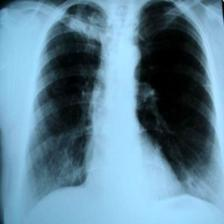tuberculosis: (14, 0, 223, 217)
